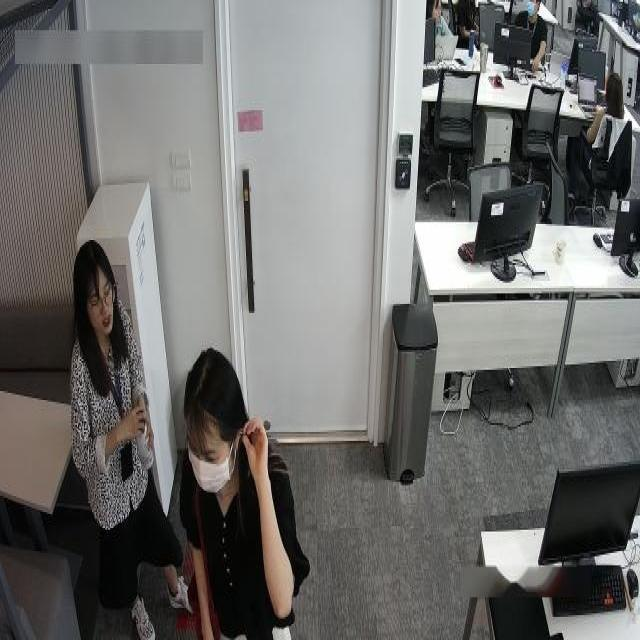bare_hand: (238, 414, 277, 491), (132, 380, 156, 480), (105, 398, 141, 464), (603, 62, 626, 132), (532, 50, 544, 80), (429, 9, 444, 30)
